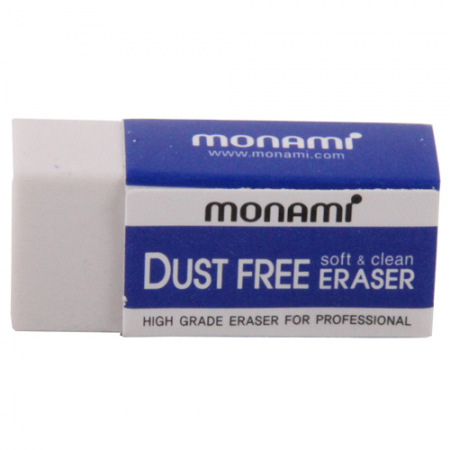eraser: (5, 113, 443, 342)
